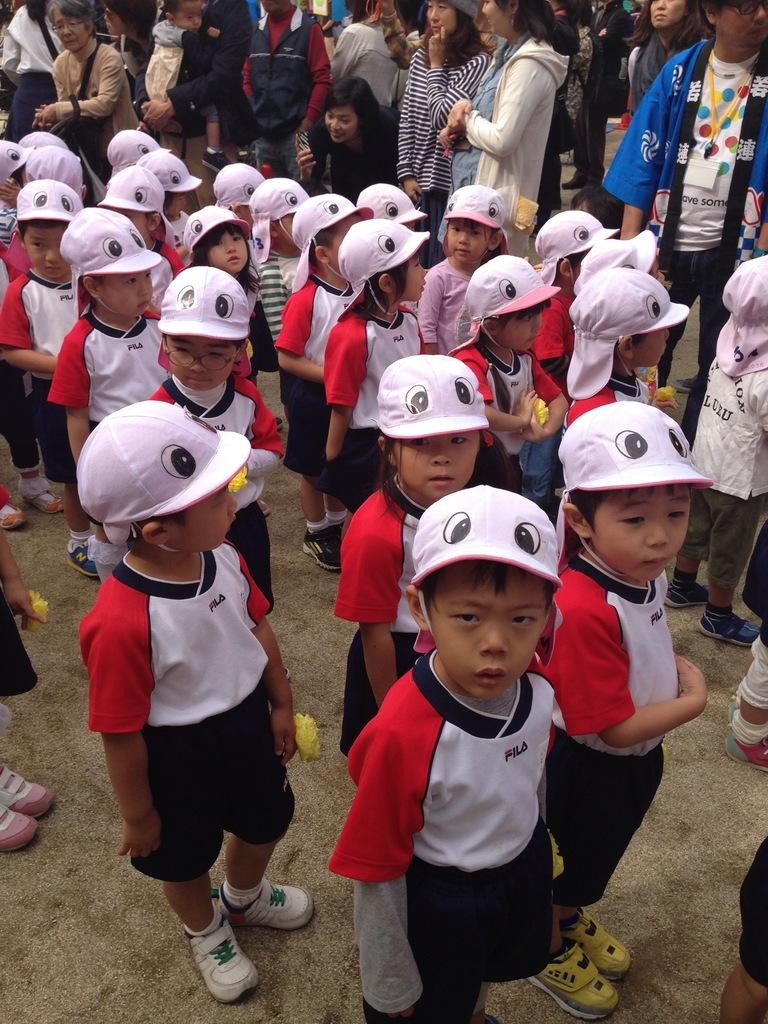Hat: (0, 128, 717, 545)
